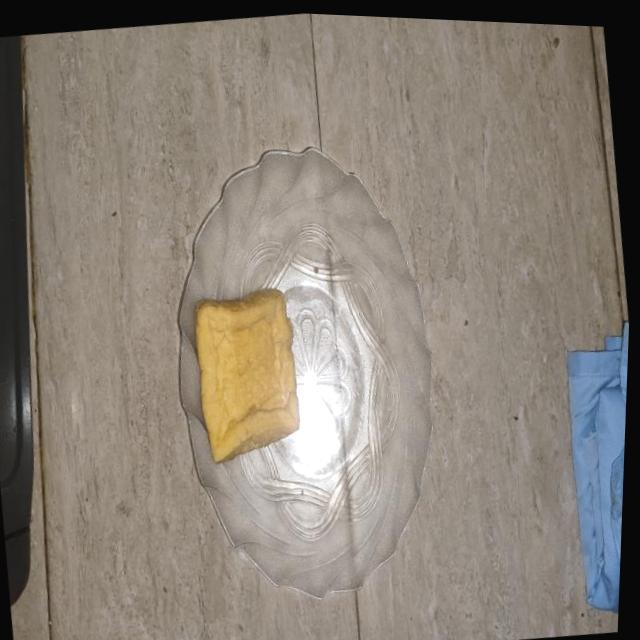tahu_goreng: (195, 288, 299, 462)
